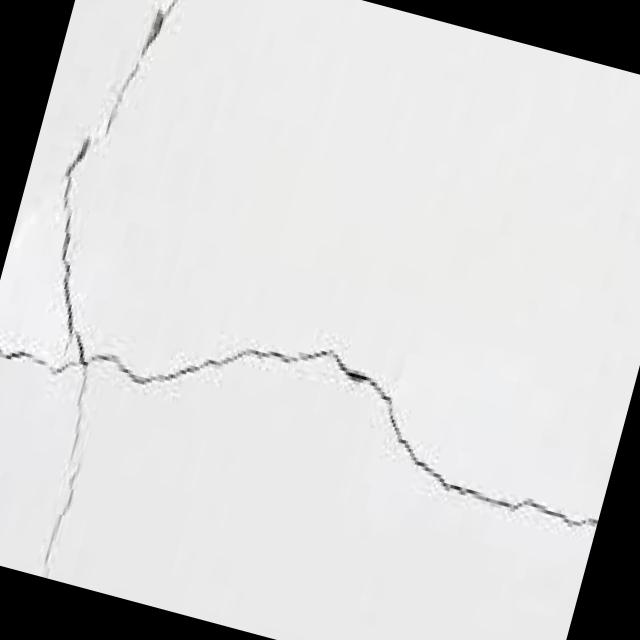crack: (80, 280, 626, 530), (17, 0, 199, 363), (0, 329, 85, 563), (36, 359, 114, 564)
